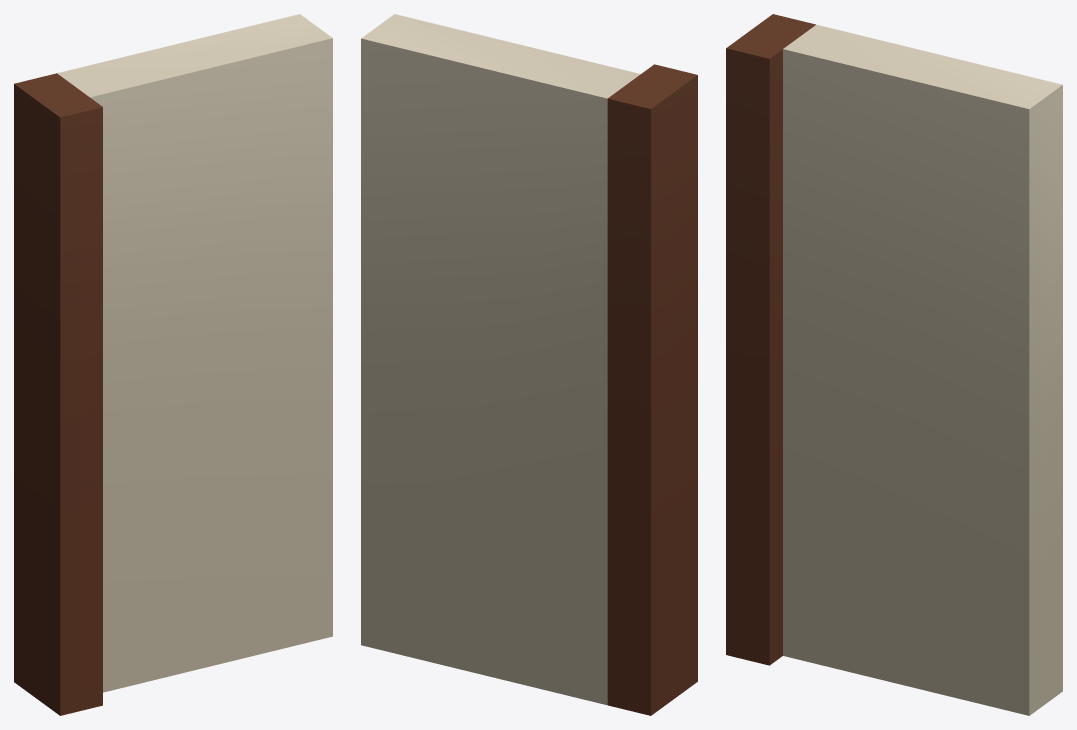
The model's file is House_Wall_1m.fbx.
3 views of the same model, side by side, from view 1: azimuth 30°, elevation 25°; view 2: azimuth 150°, elevation 25°; view 3: azimuth 330°, elevation 25° (orthographic).
Visible parts, largest first — view 1: House_Wall_1m; view 2: House_Wall_1m; view 3: House_Wall_1m.
Boxes of the visible parts, x1=… form: House_Wall_1m: x1=14, y1=14, x2=332, y2=715; House_Wall_1m: x1=361, y1=14, x2=697, y2=715; House_Wall_1m: x1=726, y1=14, x2=1062, y2=715.
Size of the model in its own units: 1 by 2 by 0.28.
Materials: 1 (1 with a texture image).
